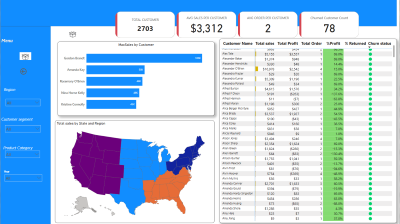

This screenshot's page, from the dashboard's own definition file:
{"tool":"powerbi","page":{"name":"Customer ","canvas":[1920,1080],"ordinal":2},"visuals":[{"type":"shape","box":[0,0,1908.1,127.3],"z":0},{"type":"slicer","fields":{"Values":["Customer.Customer Segment"]},"box":[12.2,592.8,191.9,62.8],"z":0,"group":"g1"},{"type":"cardVisual","fields":{"Data":["Customer_measures.TOTAL CUSTOMER","Customer_measures.AVG SALES PER CUSTOMER","Customer_measures.AVG ORDER PER CUSTOMER","Customer_measures.Churned Customer Count"]},"box":[548.2,51.3,1183,137.9],"z":1000},{"type":"slicer","fields":{"Values":["Customer.Region"]},"box":[15.7,467.2,186.6,64.5],"z":1000,"group":"g1"},{"type":"slicer","fields":{"Values":["Calender.Date.Variation.Date Hierarchy.Year","Calender.Date.Variation.Date Hierarchy.Quarter","Calender.Date.Variation.Date Hierarchy.Month","Calender.Date.Variation.Date Hierarchy.Day"]},"box":[0,581.6,236.4,79.5],"z":2000},{"type":"slicer","fields":{"Values":["Product-category.Product Category"]},"box":[12.2,716.6,188.4,59.3],"z":2000,"group":"g1"},{"type":"barChart","fields":{"Category":["Customer.Customer Name"],"Y":["_measures.Total sales"]},"box":[317.4,221.5,659.3,284.3],"z":3000},{"type":"textbox","box":[8.9,694.8,177,46.1],"z":3000,"group":"g1"},{"type":"pivotTable","fields":{"Rows":["Customer.Customer Name"],"Values":["_measures.Total sales","_measures.Total Profit","_measures.Total Order","_measures.%Profit","_measures.% Returned Orders","Customer_measures.Churn status"]},"box":[1055.2,188.4,852.9,837.2],"z":4000},{"type":"textbox","box":[0,557.3,187.9,42.7],"z":4000,"group":"g1"},{"type":"textbox","box":[11.8,415.1,162.5,46.7],"z":5000,"group":"g1"},{"type":"shapeMap","fields":{"Value":["_measures.Total sales"],"Category":["Customer.State"],"Series":["Customer.Region"]},"box":[263.4,580.8,767.4,493.6],"z":5000},{"type":"actionButton","box":[0,598.3,181.4,47.1],"z":6000},{"type":"actionButton","box":[90.7,327.9,68,52.3],"z":7000},{"type":"shape","box":[0,127.3,242.4,952.3],"z":8000},{"type":"clusteredBarChart","title":"MaxSales by Customer ","fields":{"Category":["HigestbuyingProduct by customer.Customer_Customer Name"],"Y":["Sum(HigestbuyingProduct by customer.MaxSales)"]},"box":[275.6,202.3,739.5,354.1],"z":9000},{"type":"image","box":[317.4,129.1,64.5,68],"z":10000},{"type":"group","id":"g1","title":"Group 1","box":[0,415.1,211.8,486.4],"z":11000},{"type":"image","title":"Product Icon","box":[83.7,247.7,75,47.1],"z":12000},{"type":"textbox","box":[12.2,812.8,89,34.9],"z":13000},{"type":"textbox","box":[0,176.2,125.6,41.9],"z":13001},{"type":"actionButton","box":[90.7,324.4,48.8,40.1],"z":13002},{"type":"slicer","fields":{"Values":["Calender.Date.Variation.Date Hierarchy.Year","Calender.Date.Variation.Date Hierarchy.Quarter","Calender.Date.Variation.Date Hierarchy.Month","Calender.Date.Variation.Date Hierarchy.Day"]},"box":[11.2,830,200.6,71.5],"z":21001,"group":"g1"}]}

Visuals, with their boxes on the page's 1920x1080 design canvas (x1, y1, x2, y2). These are canvas units, not pixel positions in the 400x224 screenshot, which may show the page scaled, cropped or inside an application window:
shape: l=0, t=0, r=1908, b=127
slicer - Customer.Customer Segment: l=12, t=593, r=204, b=656
cardVisual - Customer_measures.TOTAL CUSTOMER x Customer_measures.AVG SALES PER CUSTOMER: l=548, t=51, r=1731, b=189
slicer - Customer.Region: l=16, t=467, r=202, b=532
slicer - Calender.Date.Variation.Date Hierarchy.Year x Calender.Date.Variation.Date Hierarchy.Quarter: l=0, t=582, r=236, b=661
slicer - Product-category.Product Category: l=12, t=717, r=201, b=776
barChart - Customer.Customer Name x _measures.Total sales: l=317, t=222, r=977, b=506
textbox: l=9, t=695, r=186, b=741
pivotTable - Customer.Customer Name x _measures.Total sales: l=1055, t=188, r=1908, b=1026
textbox: l=0, t=557, r=188, b=600
textbox: l=12, t=415, r=174, b=462
shapeMap - _measures.Total sales x Customer.State: l=263, t=581, r=1031, b=1074
actionButton: l=0, t=598, r=181, b=645
actionButton: l=91, t=328, r=159, b=380
shape: l=0, t=127, r=242, b=1080
"MaxSales by Customer " clusteredBarChart: l=276, t=202, r=1015, b=556
image: l=317, t=129, r=382, b=197
"Group 1" group: l=0, t=415, r=212, b=902
"Product Icon" image: l=84, t=248, r=159, b=295
textbox: l=12, t=813, r=101, b=848
textbox: l=0, t=176, r=126, b=218
actionButton: l=91, t=324, r=140, b=364
slicer - Calender.Date.Variation.Date Hierarchy.Year x Calender.Date.Variation.Date Hierarchy.Quarter: l=11, t=830, r=212, b=902
